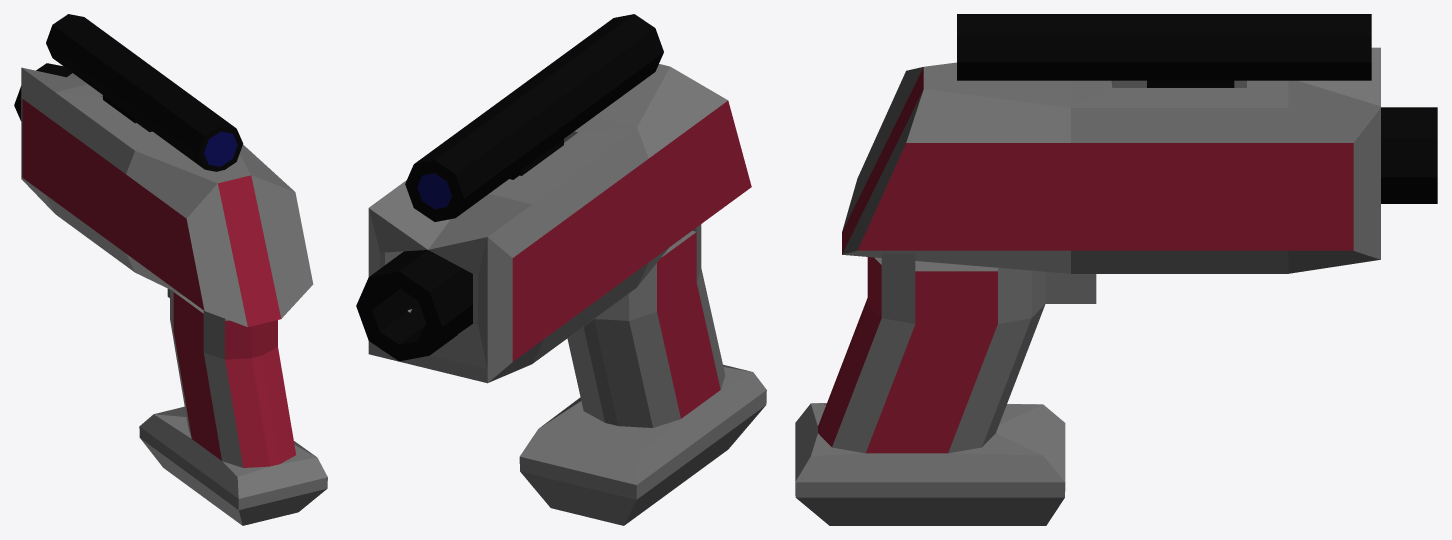
File: ArturPistol.fbx
3 views of the same model, side by side, from view 1: azimuth 30°, elevation 25°; view 2: azimuth 150°, elevation 25°; view 3: azimuth 270°, elevation 25° (orthographic). The views are drawn at different scales.
Parts seen in each view (by area): view 1: Cube.006, Handle, Cylinder.003, Cylinder.002; view 2: Cube.006, Handle, Cylinder.003, Cylinder.002; view 3: Cube.006, Handle, Cylinder.003, Cylinder.002.
Part boxes in pixels (x1=…): Cube.006: x1=21, y1=67, x2=313, y2=326; Handle: x1=139, y1=289, x2=327, y2=525; Cylinder.003: x1=46, y1=14, x2=243, y2=171; Cylinder.002: x1=14, y1=63, x2=72, y2=121; Cube.006: x1=368, y1=64, x2=751, y2=383; Handle: x1=519, y1=224, x2=766, y2=525; Cylinder.003: x1=405, y1=14, x2=663, y2=221; Cylinder.002: x1=356, y1=250, x2=472, y2=361; Cube.006: x1=842, y1=47, x2=1380, y2=273; Handle: x1=795, y1=252, x2=1096, y2=525; Cylinder.003: x1=957, y1=14, x2=1371, y2=87; Cylinder.002: x1=1381, y1=107, x2=1437, y2=203.
Size of the model in its own units: 0.0483 by 0.1528 by 0.1815.
